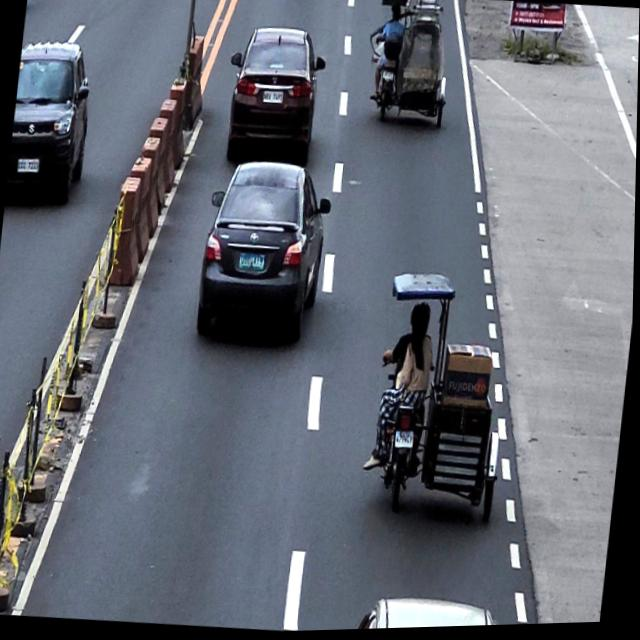Car: (194, 156, 336, 348), (220, 22, 329, 169), (6, 36, 97, 204), (357, 592, 507, 631)
License-Plate: (238, 252, 267, 274), (394, 431, 417, 452), (17, 157, 41, 175), (262, 89, 285, 107), (382, 72, 395, 84)
Tricycle: (360, 268, 520, 529), (359, 0, 458, 138)
